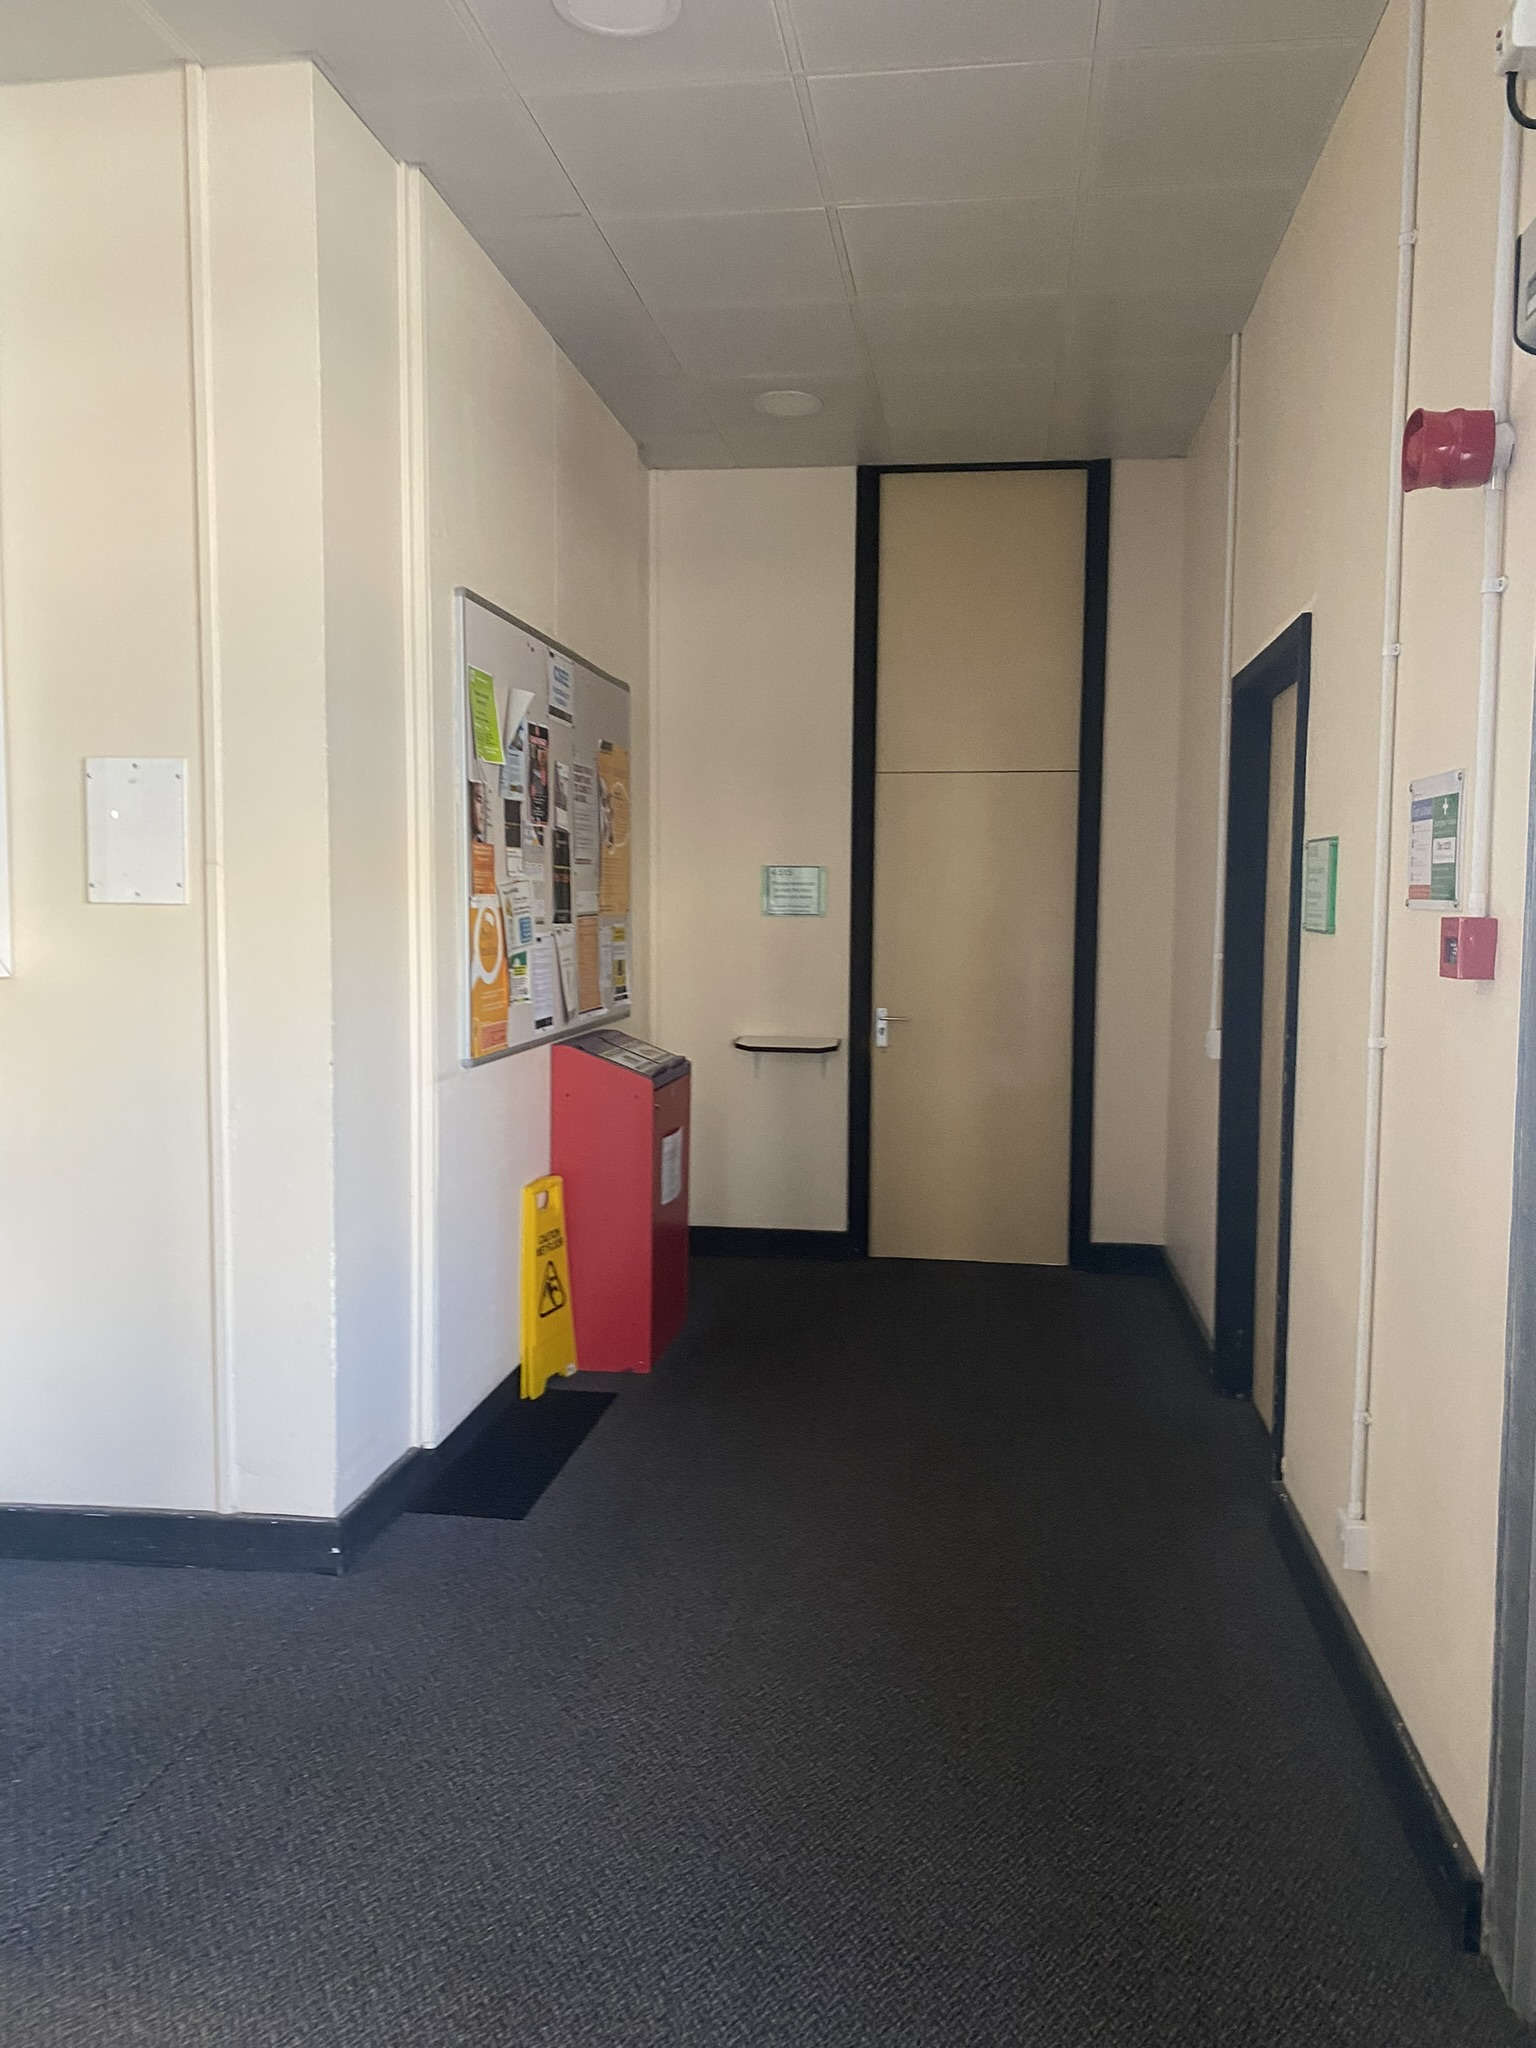door: (829, 477, 1104, 1297)
